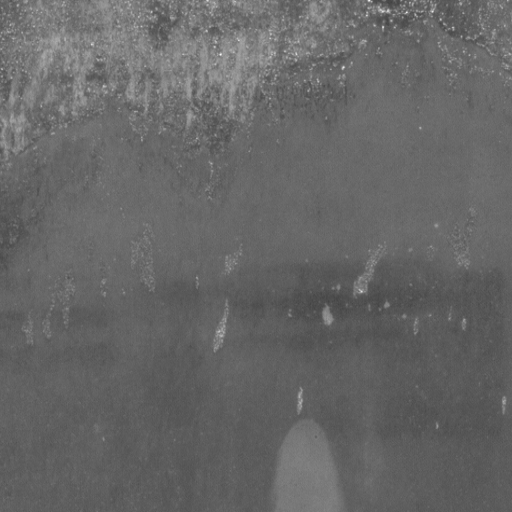aokeng: (267, 413, 345, 512)
qiaopi: (1, 18, 353, 165), (363, 1, 512, 74)
